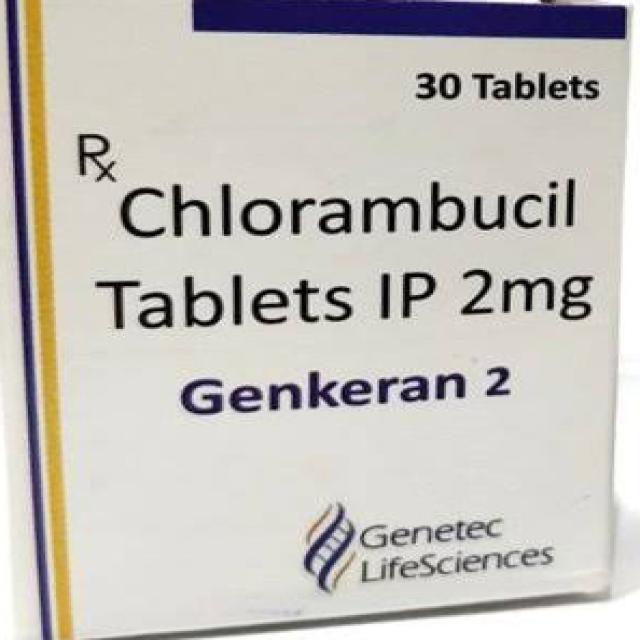drug-name: (182, 354, 516, 423)
